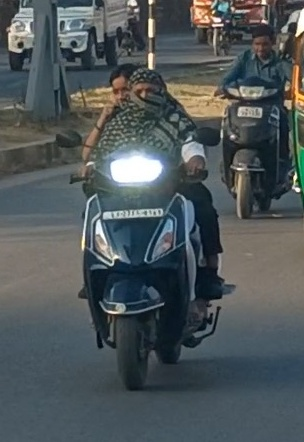BikeWithRider: (49, 59, 239, 395), (209, 21, 300, 222)
NoHelmet: (122, 64, 173, 116), (104, 62, 144, 111), (245, 23, 280, 59)
